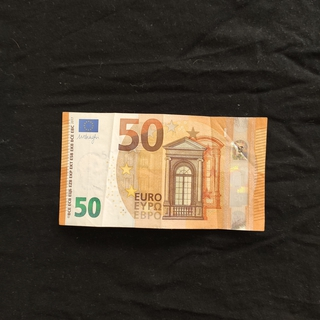50EUROFront: (57, 110, 268, 233)
